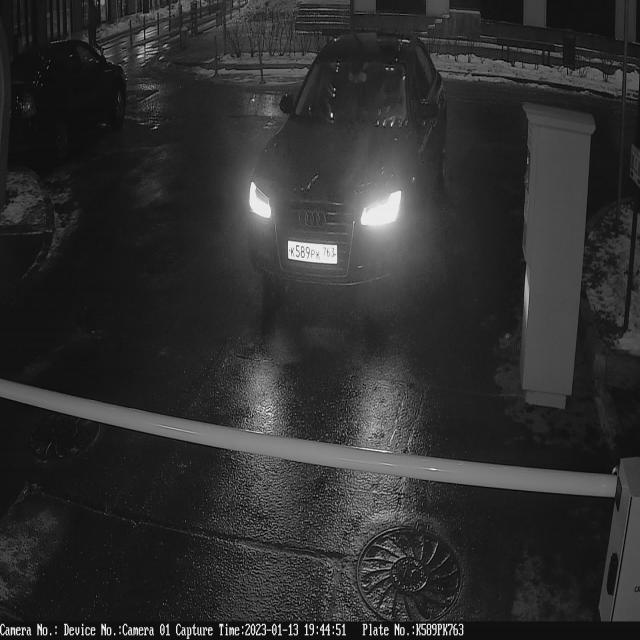car-plate-numbers: (284, 236, 341, 272)
